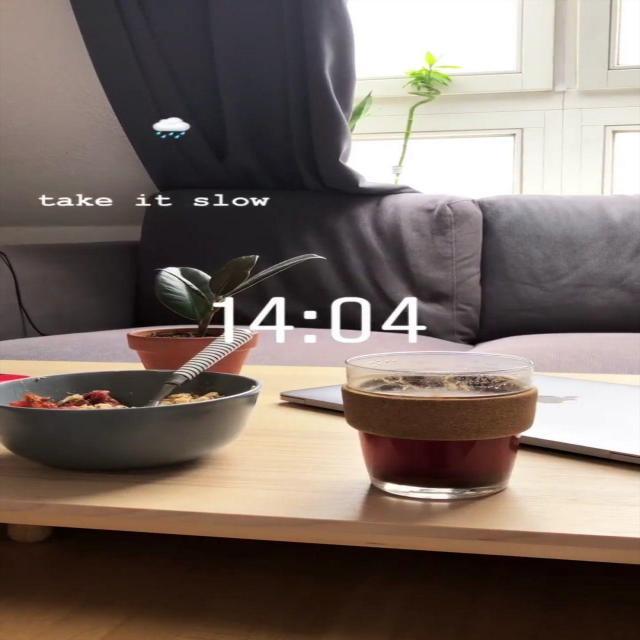glass-normal: (339, 350, 540, 500)
